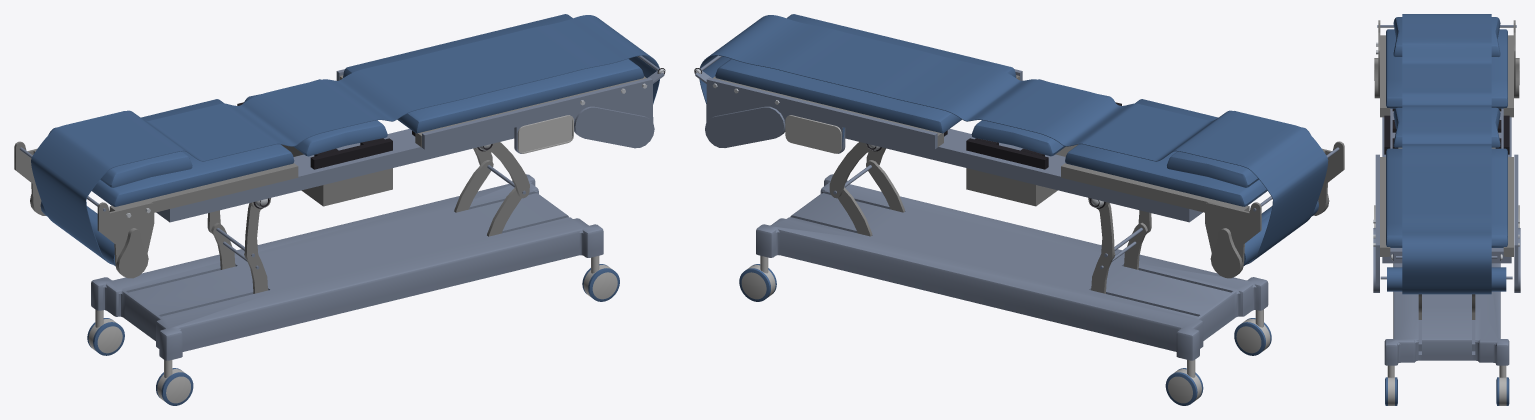
The model's file is camilla_movil.fbx.
3 renders of one model, left to right at view 1: azimuth 30°, elevation 25°; view 2: azimuth 150°, elevation 25°; view 3: azimuth 270°, elevation 25°, orthographic. The views are drawn at different scales.
Parts seen in each view (by area): view 1: camilla, camilla_base, Sabana_sinfin, camilla_desliza_pies, camilla_desliza_testa, camilla_rota_pies, rueda_01, rueda_02, rueda_03, camilla_rota_testa; view 2: camilla, camilla_base, Sabana_sinfin, camilla_desliza_pies, camilla_desliza_testa, camilla_rota_pies, rueda_04, rueda_02, rueda_01, camilla_rota_testa; view 3: Sabana_sinfin, camilla, camilla_base, rueda_04, rueda_03, camilla_desliza_pies.
Boxes of the visible parts, x1,y1,x2,y2 form: camilla: [14, 14, 665, 278]; camilla_base: [91, 174, 603, 377]; Sabana_sinfin: [31, 15, 659, 264]; camilla_desliza_pies: [454, 160, 525, 236]; camilla_desliza_testa: [211, 222, 267, 293]; camilla_rota_pies: [473, 142, 529, 198]; rueda_01: [87, 318, 124, 355]; rueda_02: [156, 368, 193, 405]; rueda_03: [582, 264, 619, 301]; camilla_rota_testa: [207, 199, 270, 261]; camilla: [694, 14, 1344, 278]; camilla_base: [756, 174, 1268, 377]; Sabana_sinfin: [699, 15, 1328, 264]; camilla_desliza_pies: [833, 160, 904, 236]; camilla_desliza_testa: [1091, 222, 1147, 293]; camilla_rota_pies: [829, 142, 885, 198]; rueda_04: [739, 264, 776, 301]; rueda_02: [1234, 318, 1271, 355]; rueda_01: [1165, 368, 1203, 405]; camilla_rota_testa: [1088, 199, 1151, 261]; Sabana_sinfin: [1402, 14, 1491, 294]; camilla: [1373, 17, 1520, 292]; camilla_base: [1384, 263, 1509, 377]; rueda_04: [1496, 377, 1509, 405]; rueda_03: [1385, 377, 1397, 405]; camilla_desliza_pies: [1418, 294, 1475, 319].
Bounding box in the file's own units: 244 × 98.9 × 66.34.
